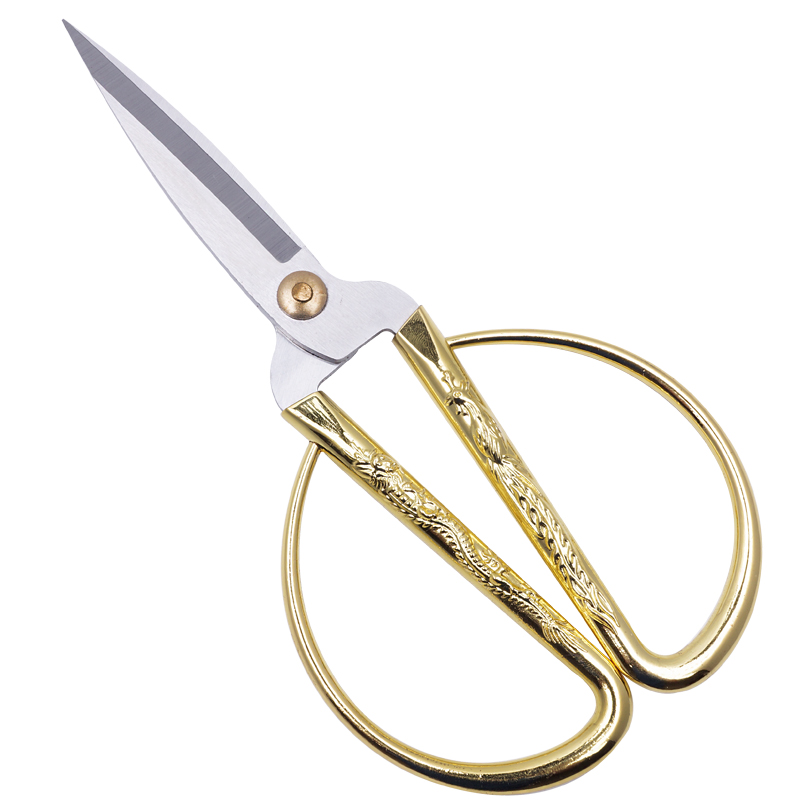scissors: (54, 14, 768, 795)
